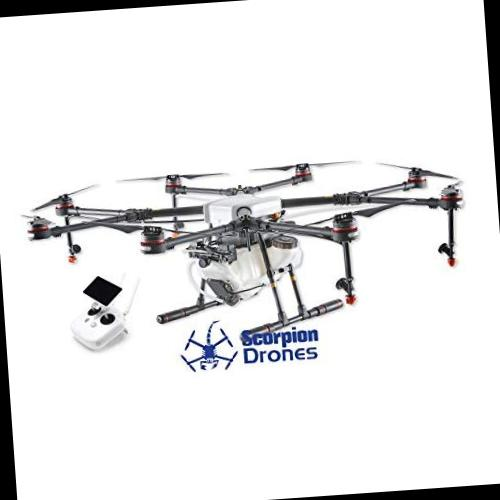drone: (14, 135, 488, 348)
